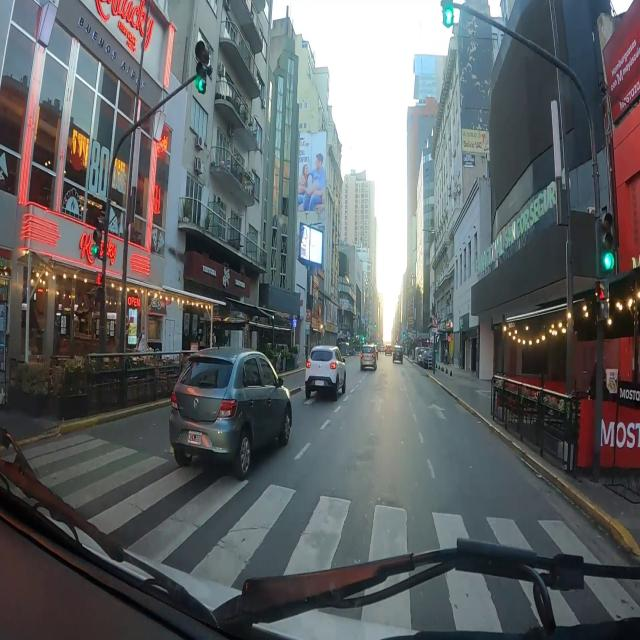car: (169, 348, 291, 479), (305, 346, 345, 400), (361, 345, 377, 370), (393, 345, 403, 363), (384, 345, 392, 355)
